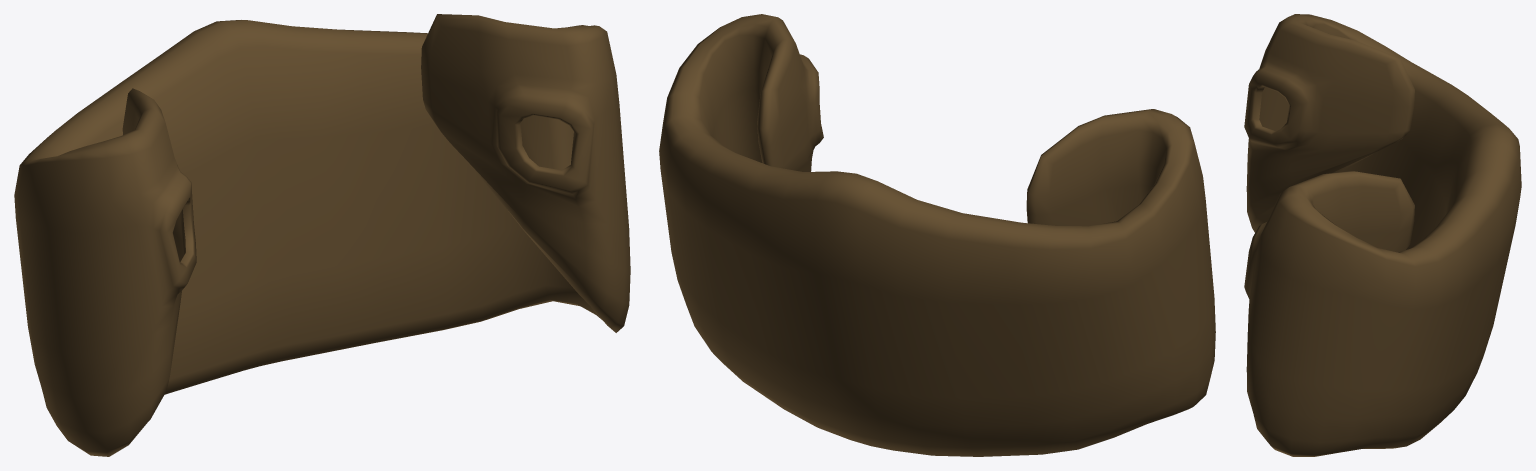
The model's file is Leather.fbx.
3 views of the same model, side by side, from view 1: azimuth 30°, elevation 25°; view 2: azimuth 150°, elevation 25°; view 3: azimuth 270°, elevation 25° (orthographic). The views are drawn at different scales.
Parts seen in each view (by area): view 1: leather; view 2: leather; view 3: leather.
Boxes of the visible parts, <box> form: leather: <box>14,14,630,456</box>; leather: <box>659,14,1215,456</box>; leather: <box>1244,14,1521,456</box>.
Bounding box in the file's own units: 1.86 × 1.12 × 0.9875.
